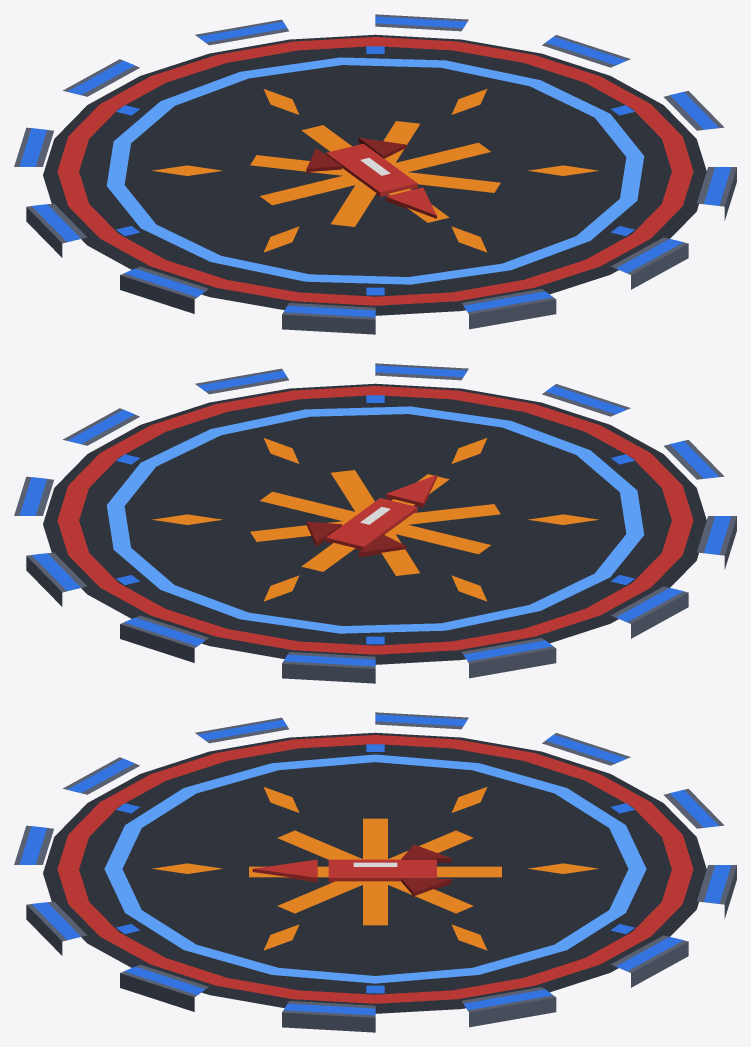
File: rocket_soldier_super_rare_area.glb
3 renders of one model, top to bottom at view 1: azimuth 30°, elevation 25°; view 2: azimuth 150°, elevation 25°; view 3: azimuth 270°, elevation 25°, orthographic.
Visible parts, largest first — view 1: rocket_soldier_super_rare_area; view 2: rocket_soldier_super_rare_area; view 3: rocket_soldier_super_rare_area.
Boxes of the visible parts, <box> form: rocket_soldier_super_rare_area: <box>14,14,736,334</box>; rocket_soldier_super_rare_area: <box>14,363,736,683</box>; rocket_soldier_super_rare_area: <box>14,712,736,1032</box>.
Bounding box in the file's own units: 2 × 0.046 × 2.
Materials: 2 (2 with a texture image).
